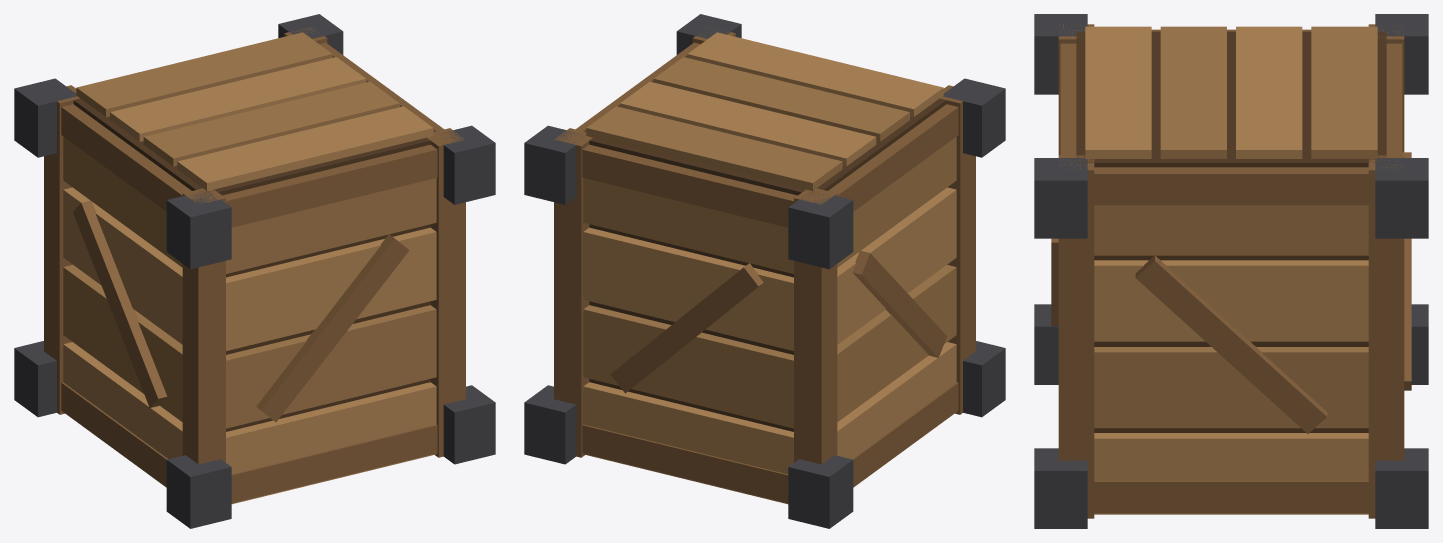
Rendered from crate.glb.
3 views of the same model, side by side, from view 1: azimuth 30°, elevation 25°; view 2: azimuth 150°, elevation 25°; view 3: azimuth 270°, elevation 25° (orthographic). The views are drawn at different scales.
Parts seen in each view (by area): view 1: crate_plank14, crate_plank13, crate_plank12, crate_plank15, crate_post00, crate_top00, crate_top01, crate_top02, crate_top03, crate_post01, crate_rail03_1, crate_plank10 (+18 smaller); view 2: crate_plank06, crate_plank05, crate_plank04, crate_plank07, crate_post03, crate_top03, crate_top02, crate_top01, crate_top00, crate_plank10, crate_plank09, crate_post02 (+18 smaller); view 3: crate_plank02, crate_plank01, crate_plank03, crate_plank00, crate_core-col, crate_rail00_1, crate_post01, crate_post02, crate_rail00_0, crate_top00, crate_top03, crate_top01 (+16 smaller).
Boxes of the visible parts, x1,y1,x2,y2 form: crate_plank14: (226,227,436,350); crate_plank13: (226,305,436,428); crate_plank12: (226,382,436,504); crate_plank15: (226,178,436,273); crate_post00: (182,188,225,464); crate_top00: (177,106,433,190); crate_top01: (143,81,399,166); crate_top02: (110,57,366,141); crate_top03: (76,32,332,117); crate_post01: (427,128,465,457); crate_rail03_1: (222,144,437,227); crate_plank10: (63,187,182,344); crate_plank06: (583,227,793,350); crate_plank05: (583,305,793,428); crate_plank04: (583,382,793,504); crate_plank07: (583,178,793,273); crate_post03: (794,188,837,464); crate_top03: (586,106,842,190); crate_top02: (620,81,876,166); crate_top01: (653,57,909,141); crate_top00: (687,32,943,117); crate_plank10: (837,187,956,344); crate_plank09: (837,265,956,421); crate_post02: (554,128,592,457); crate_plank02: (1094,260,1368,341); crate_plank01: (1094,347,1368,428); crate_plank03: (1094,205,1368,255); crate_plank00: (1094,433,1368,514); crate_core-col: (1076,31,1386,432); crate_rail00_1: (1094,167,1368,205); crate_post01: (1058,155,1094,518); crate_post02: (1368,155,1404,518); crate_rail00_0: (1094,481,1368,513); crate_top00: (1085,26,1151,158); crate_top03: (1311,26,1377,158); crate_top01: (1160,26,1226,158).
Size of the model in its own units: 0.8 by 0.8 by 0.8.
